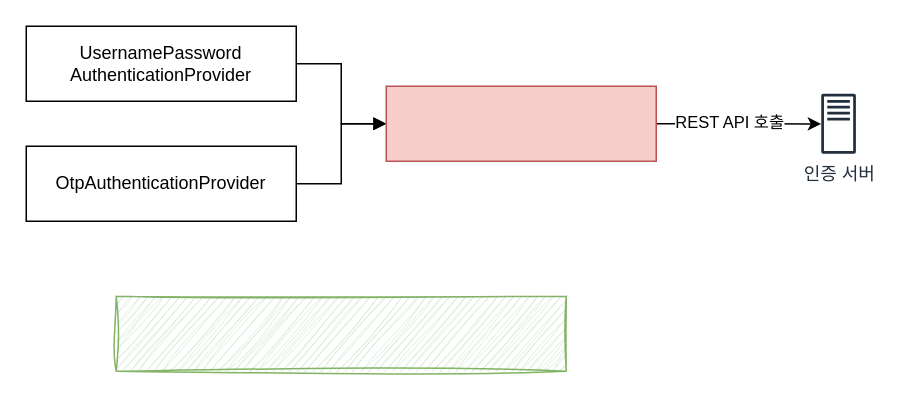
Image size: 902x398. Some labels were removed from this diagram. The shapes that lost their labels are listed below. From the top down, each one's centre as x and y in pixels, then its label:
At pixel 520 123: "AuthenticationServerProxy".
At pixel 340 333: "AuthenticationProvider 가 구현하는 인증 논리는 AuthenticationServerProxy 를 이용하여 인증 서버를 호출함".
